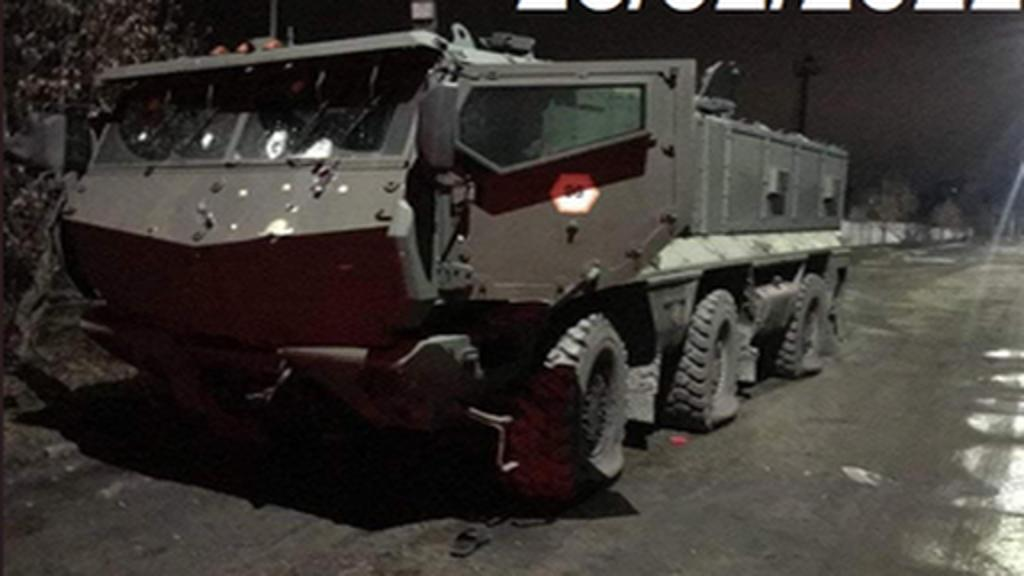TRUCK: (48, 28, 862, 514)
